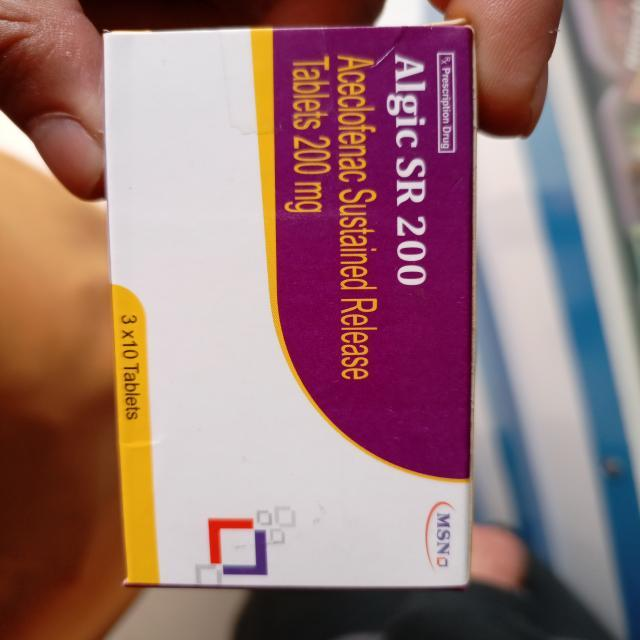drug-name: (385, 53, 430, 290)
